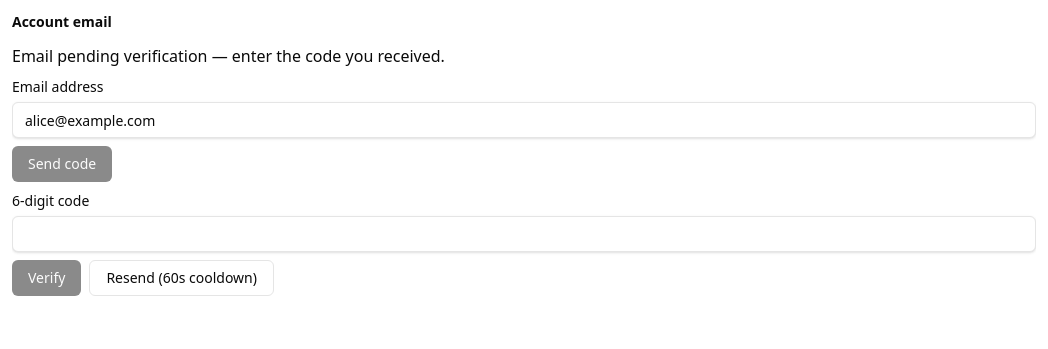
Test case: EmailIdentityCard › shows the verify form while pending and surfaces cooldown errors
Expected: the form with test id "email-verify-form" is shown, [12, 194, 1036, 296]
Click the button "Resend (60s cooldown)". click: click(182, 278)
box: [89, 260, 274, 296]
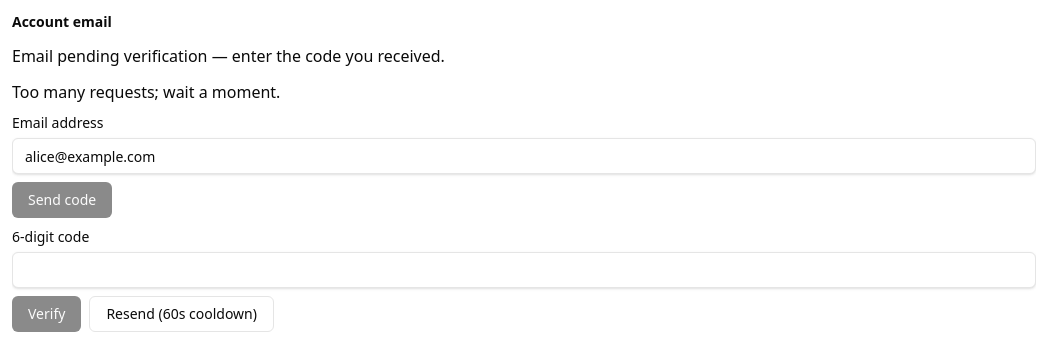
Now the message "Too many requests; wait a moment." is shown, box [12, 81, 280, 103]
